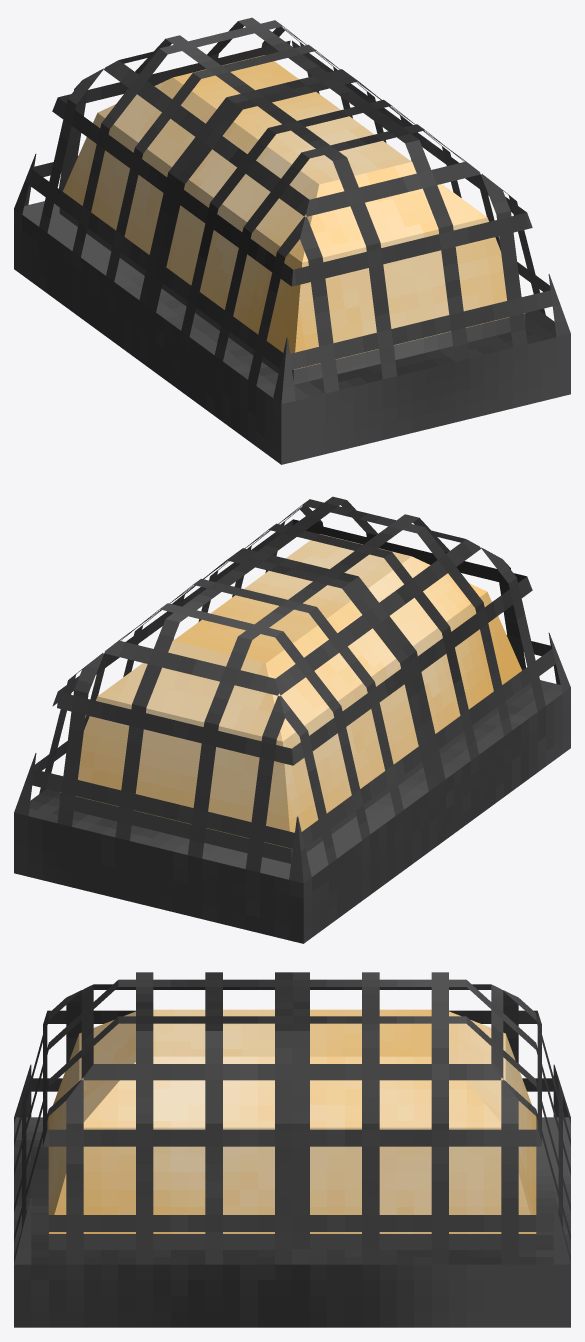
Rendered from v1_industrial_light.gltf.
The picture shows the model from 3 angles, top to bottom: view 1: azimuth 30°, elevation 25°; view 2: azimuth 150°, elevation 25°; view 3: azimuth 270°, elevation 25°; orthographic projection. The views are drawn at different scales.
Visible parts, largest first — view 1: Shell, Light; view 2: Shell, Light; view 3: Shell, Light.
Boxes of the visible parts, x1,y1,x2,y2 form: Shell: (14,17,570,464); Light: (59,55,525,384); Shell: (14,496,570,943); Light: (59,534,525,863); Shell: (14,972,570,1327); Light: (48,1009,536,1249).
Size of the model in its own units: 0.625 by 0.5 by 1.
1 material, 1 textured.
